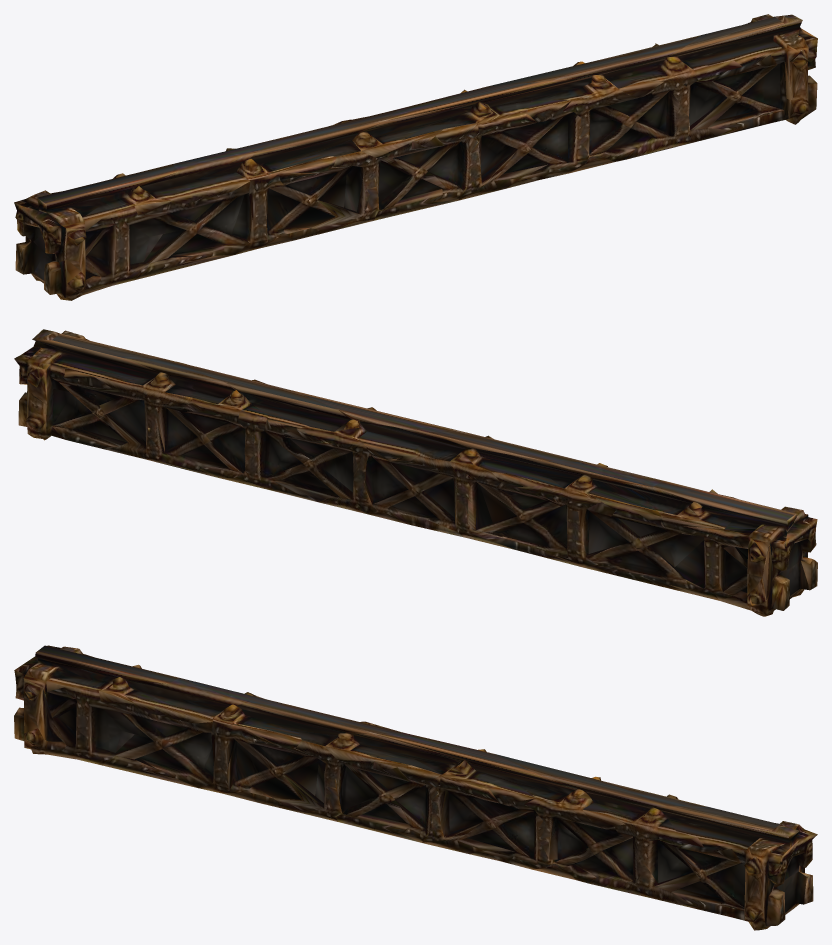
The model's file is girder.glb.
The picture shows the model from 3 angles, top to bottom: view 1: azimuth 30°, elevation 25°; view 2: azimuth 150°, elevation 25°; view 3: azimuth 330°, elevation 25°; orthographic projection.
Parts seen in each view (by area): view 1: girder; view 2: girder; view 3: girder.
Boxes of the visible parts, x1,y1,x2,y2 form: girder: (14, 14, 817, 300); girder: (14, 329, 817, 616); girder: (14, 645, 817, 930).
Size of the model in its own units: 4.4 by 0.5296 by 0.5138.
1 material, 1 textured.
